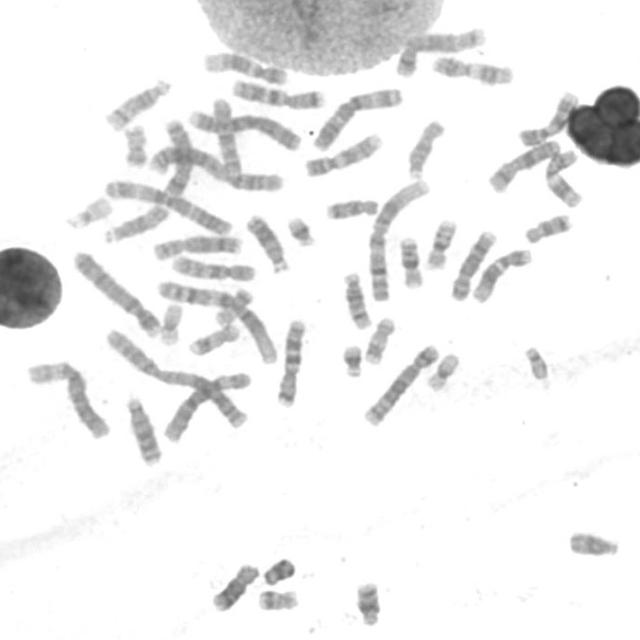A1: (152, 274, 281, 366), (364, 173, 434, 304)
A2: (102, 321, 255, 430), (145, 140, 288, 193)
A3: (101, 173, 236, 236), (308, 81, 407, 153)
B4: (68, 244, 164, 338), (184, 103, 305, 152)
B5: (360, 337, 442, 428), (392, 21, 490, 79)
C10: (208, 92, 245, 176), (168, 250, 259, 283)
C11: (427, 49, 518, 86), (542, 143, 588, 210)
C12: (468, 242, 536, 304), (200, 46, 292, 86)
C6: (22, 355, 114, 440), (160, 365, 256, 444)
C7: (228, 73, 328, 110), (272, 312, 310, 408)
C8: (446, 223, 501, 303), (148, 228, 246, 262)
C9: (300, 127, 386, 178), (515, 86, 583, 148)
D13: (122, 390, 166, 467), (242, 207, 293, 273)
D14: (100, 72, 174, 132), (338, 265, 376, 330)
D15: (99, 198, 172, 245), (404, 114, 448, 180)
E16: (422, 213, 460, 271), (395, 230, 428, 290)
E17: (186, 319, 244, 357), (361, 311, 398, 366)
E18: (521, 207, 575, 245), (322, 192, 382, 221)
F19: (422, 347, 463, 393), (155, 297, 186, 347)
F20: (210, 283, 256, 328), (119, 118, 151, 168)
G21: (283, 210, 319, 248), (338, 338, 366, 379)
G22: (61, 190, 115, 230), (520, 340, 553, 383)
X: (484, 134, 564, 194)
Y: (258, 551, 299, 587)
